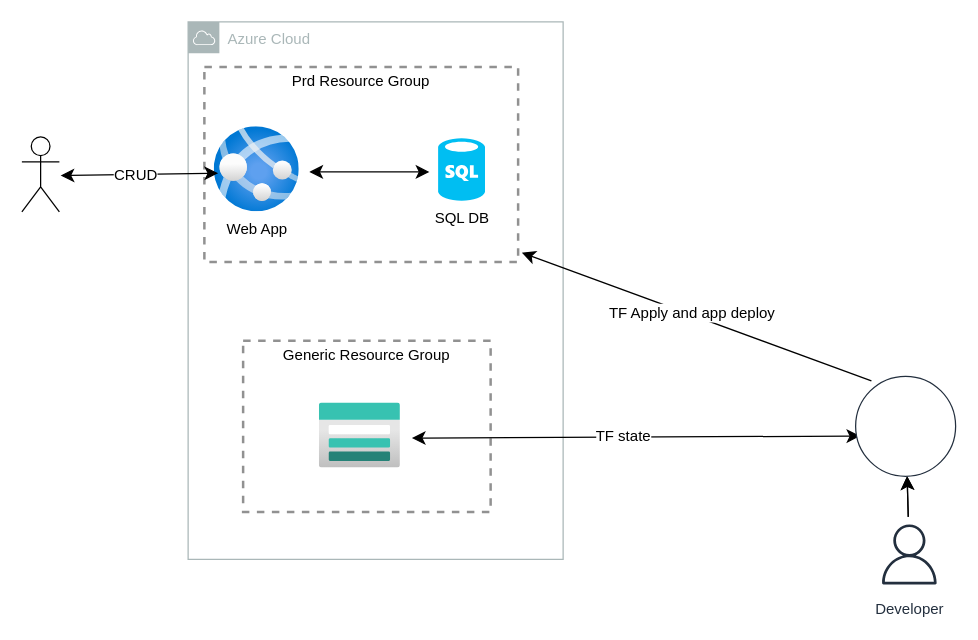
The diagram is 978 pixels wide and 640 high, and some of its shapes have lost their labels. The centre of each missing label's shape, as x and y in pixels:
Actor: pixel 40 174
GitHub Actions: pixel 905 425
Storage account: pixel 359 435
